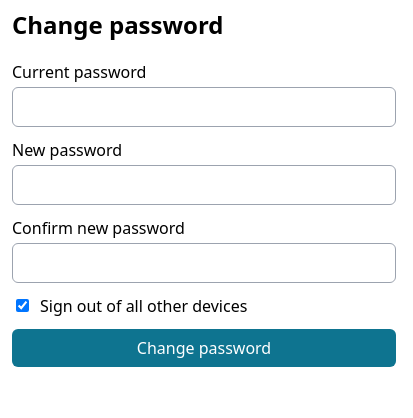
Scenario: ChangePasswordPage › changes the password
In the password field labelled "Current password": (204, 107) x1=12 y1=87 x2=396 y2=127, type "old"
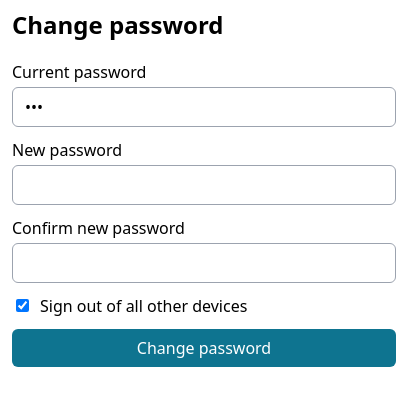
In the password field labelled "New password": (204, 185) x1=12 y1=165 x2=396 y2=205, type "a-brand-new-password"
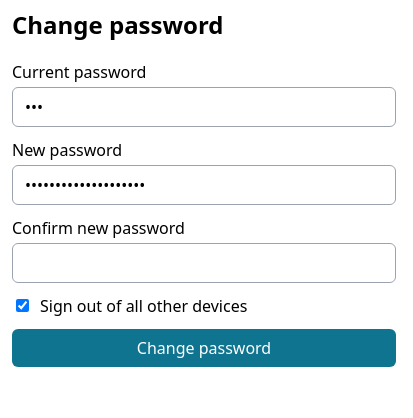
In the password field labelled "Confirm new password": (204, 263) x1=12 y1=243 x2=396 y2=283, type "a-brand-new-password"
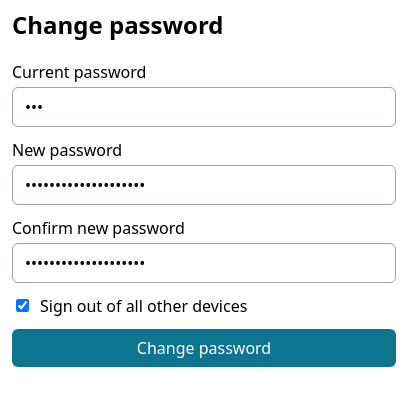
Click the button "Change password": (204, 348) x1=12 y1=329 x2=396 y2=367
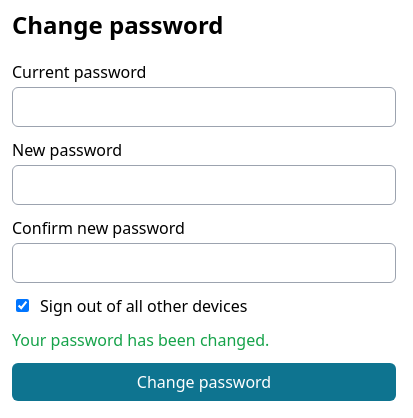
Expected: the text "Your password has been changed." is shown, x1=12 y1=329 x2=269 y2=351
